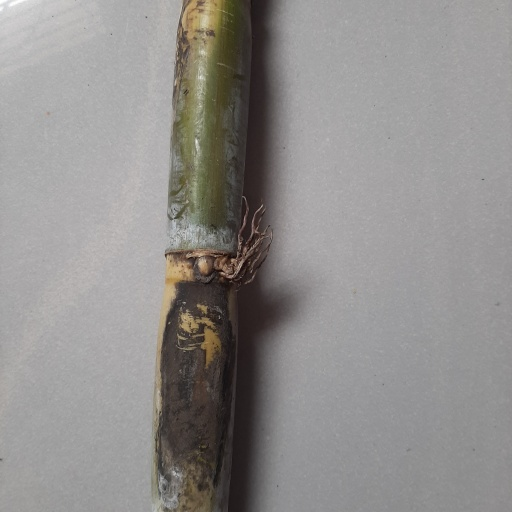Bud: (193, 255, 216, 280)
